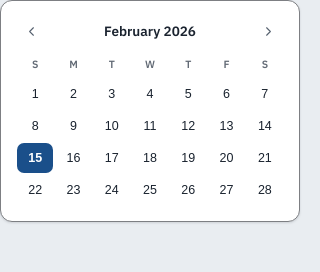
Test case: DatePicker › navigates to the next month
This screenshot has width=320, height=272.
Click the button named "Next month" at (269, 31), box [255,17,283,45]
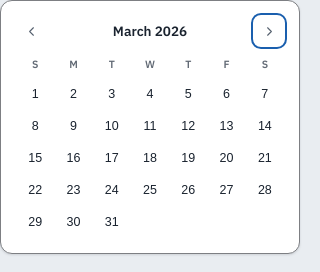
Expected: the text "March 2026" is shown, [113,21,187,41]
